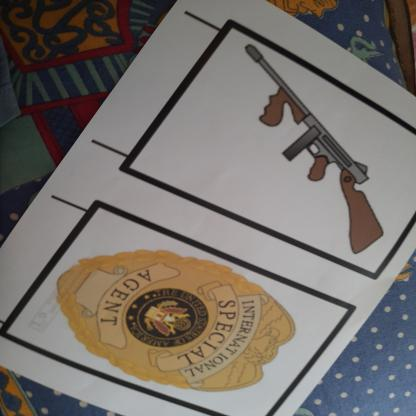Bootlegger: (227, 29, 416, 262)
G-man: (54, 242, 300, 399)
